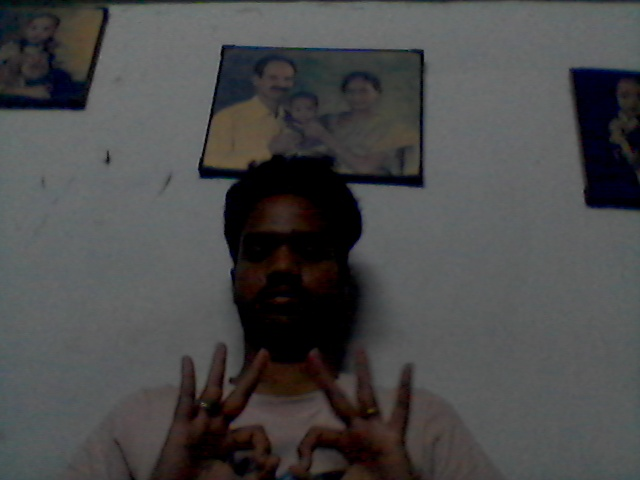How are you: (160, 336, 413, 480)
